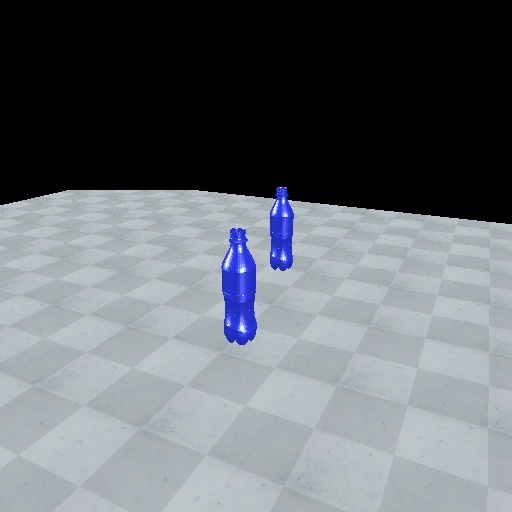bottle: (218, 225, 261, 349), (268, 183, 296, 272)
